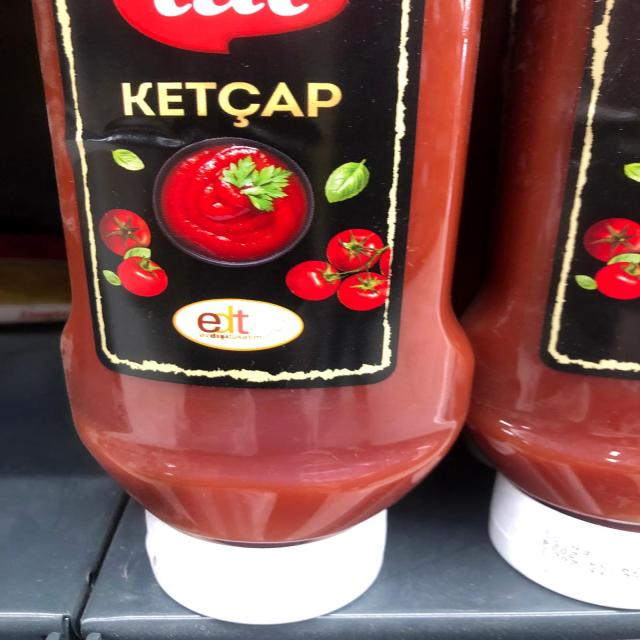ketchup: (34, 3, 490, 625)
